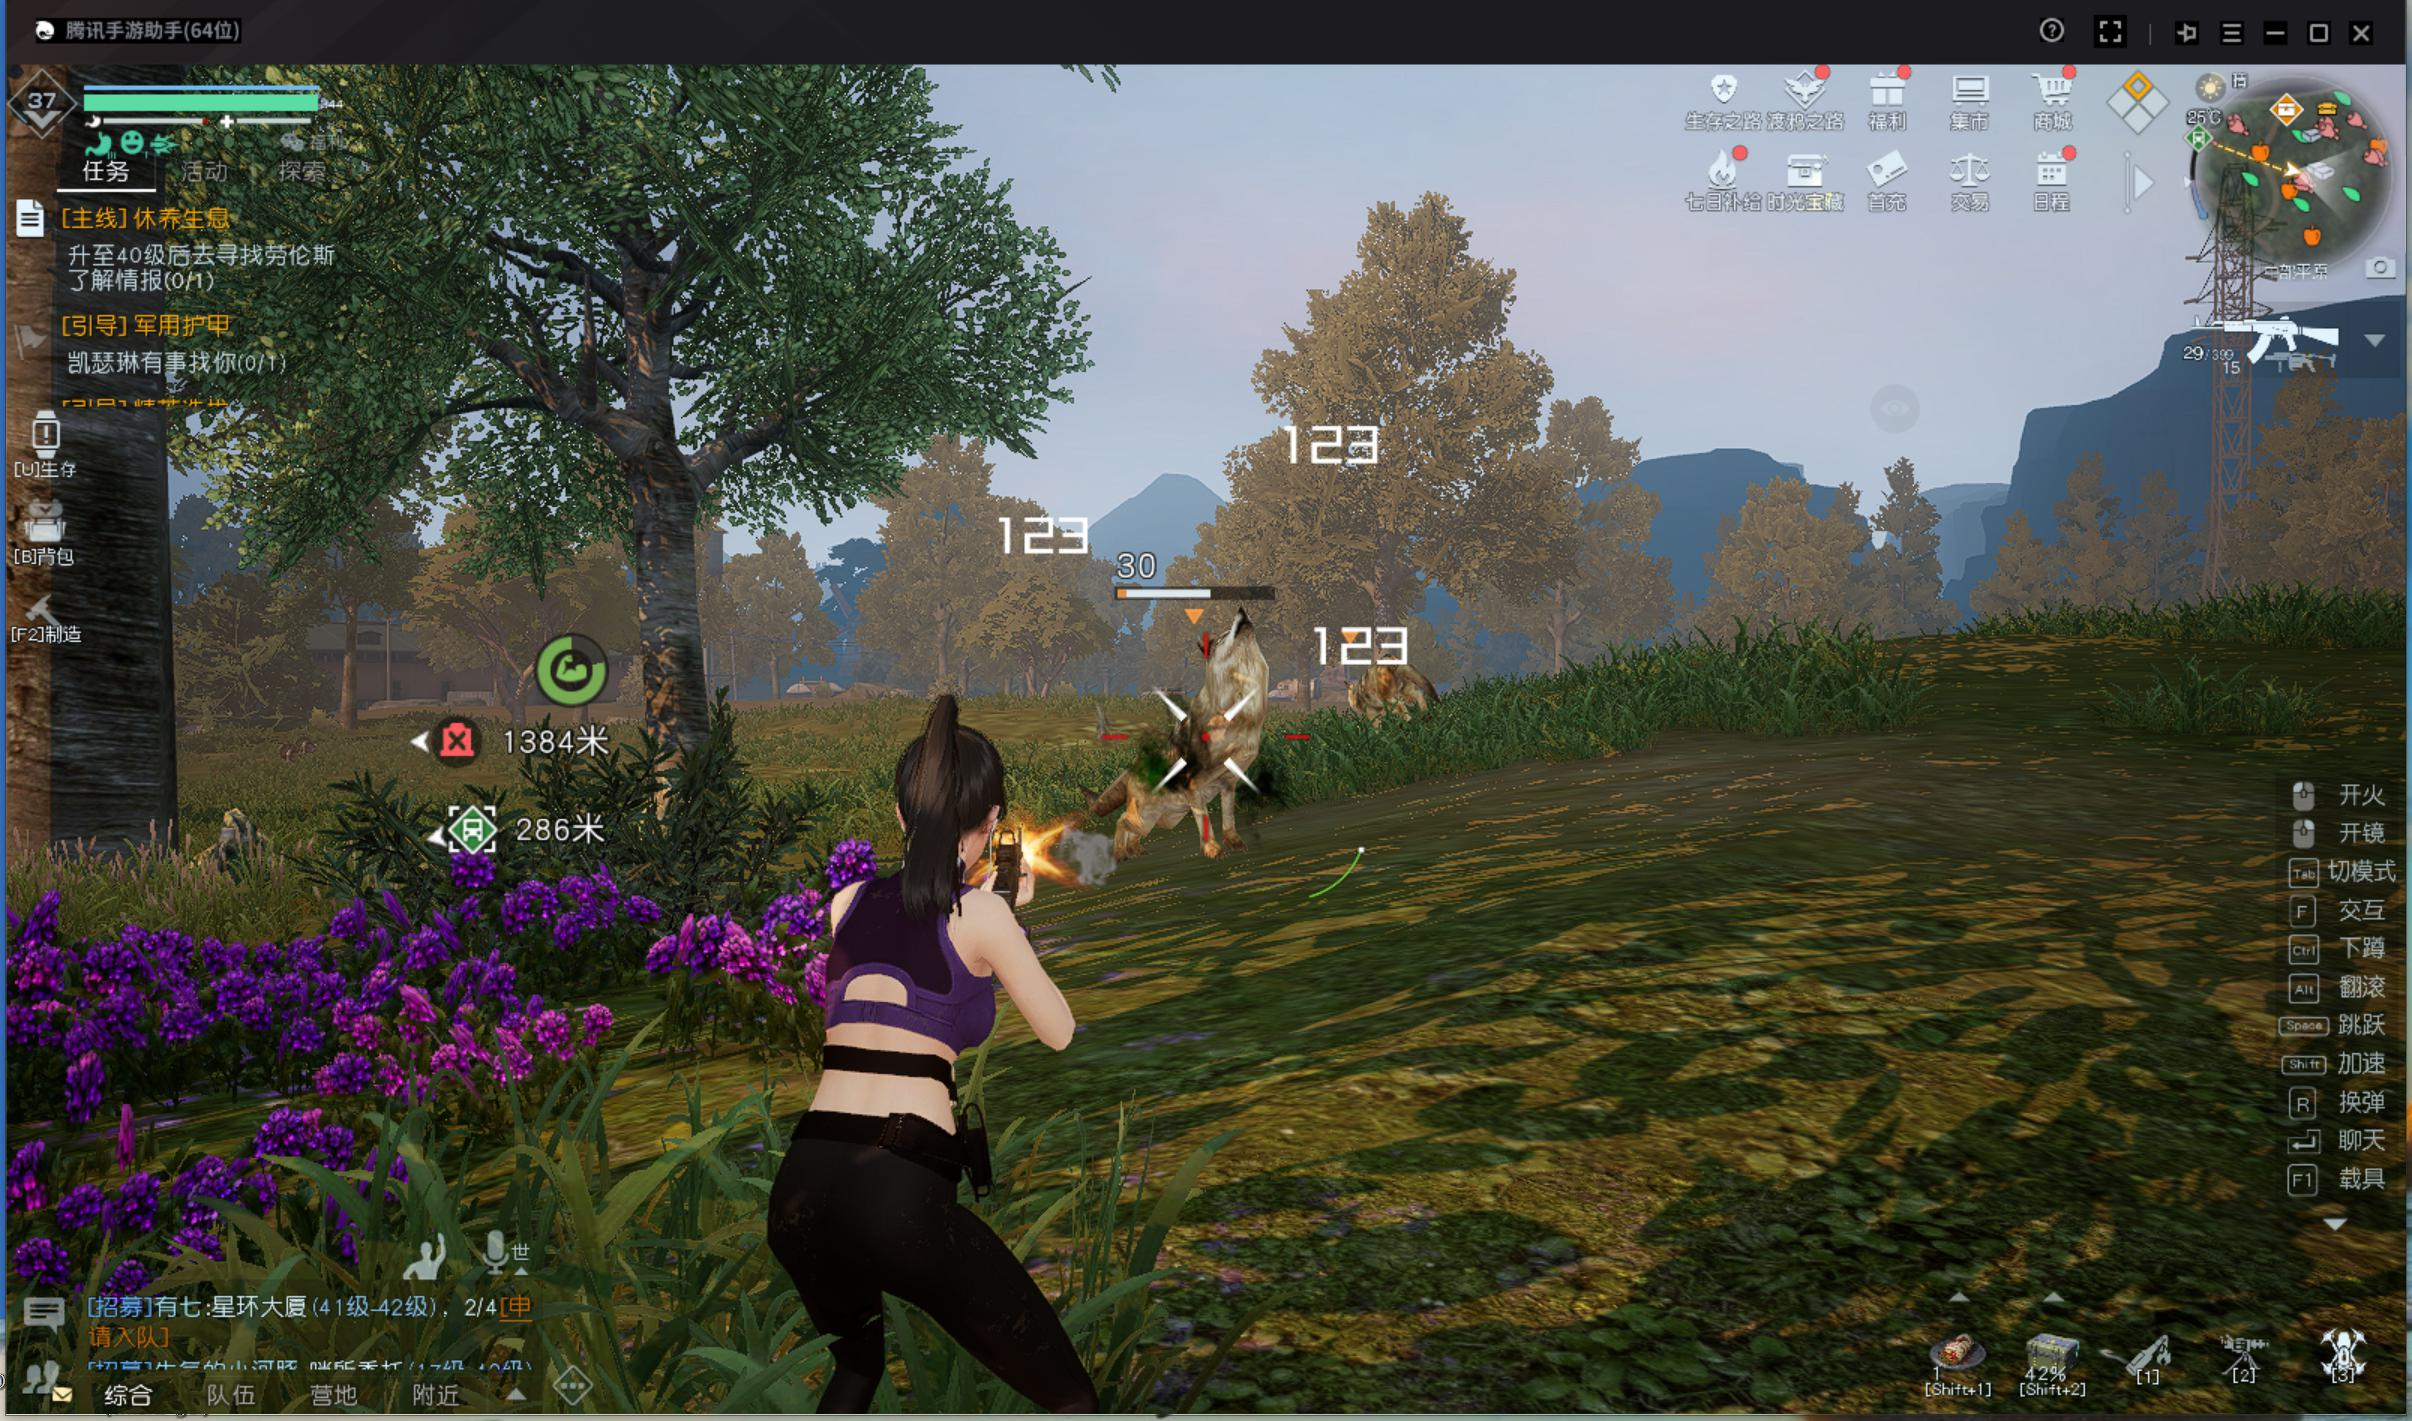tree: (8, 93, 200, 844), (600, 472, 748, 868)
